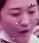mask_weared_incorrect: (1, 1, 39, 43)
